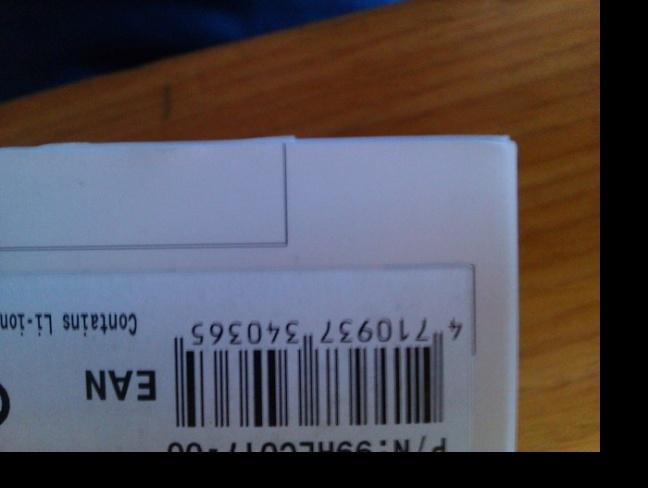Barcode: (162, 297, 470, 434)
